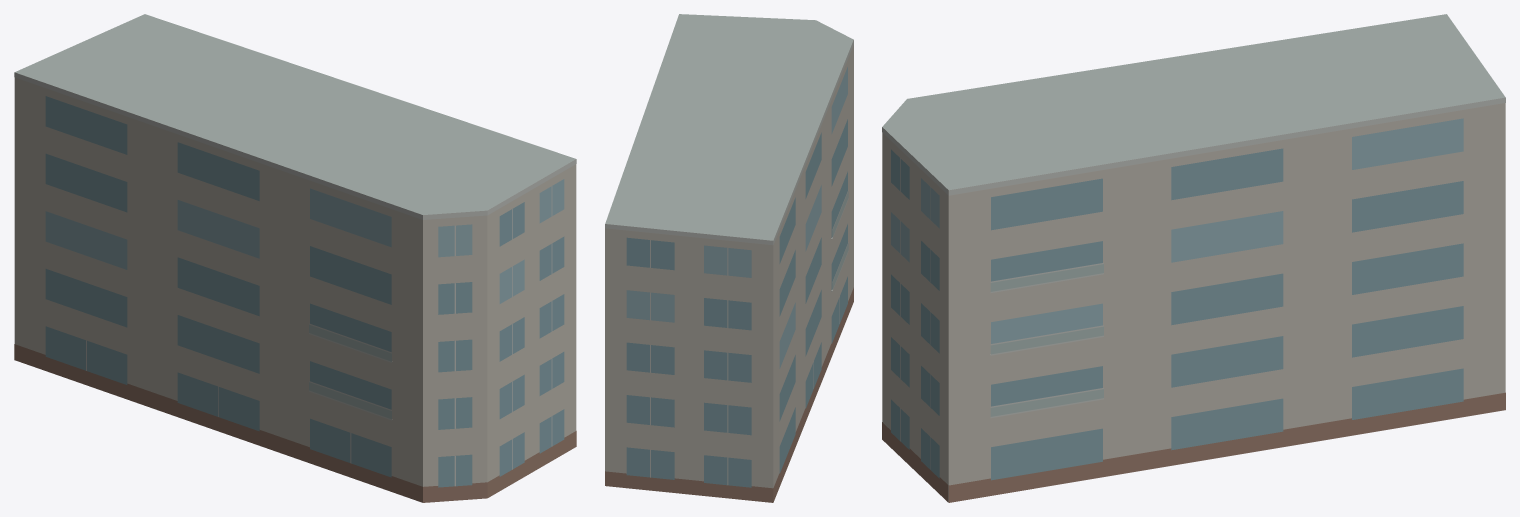
The model's file is survey-upis-33008857.glb.
3 renders of one model, left to right at view 1: azimuth 30°, elevation 25°; view 2: azimuth 150°, elevation 25°; view 3: azimuth 270°, elevation 25°, orthographic. The views are drawn at different scales.
Visible parts, largest first — view 1: survey-upis-33008857.tmp; view 2: survey-upis-33008857.tmp; view 3: survey-upis-33008857.tmp.
Boxes of the visible parts, <box> form: survey-upis-33008857.tmp: <box>14,14,576,502</box>; survey-upis-33008857.tmp: <box>605,14,853,502</box>; survey-upis-33008857.tmp: <box>882,14,1505,502</box>.
Bounding box in the file's own units: 17.19 × 14.2 × 25.69.
